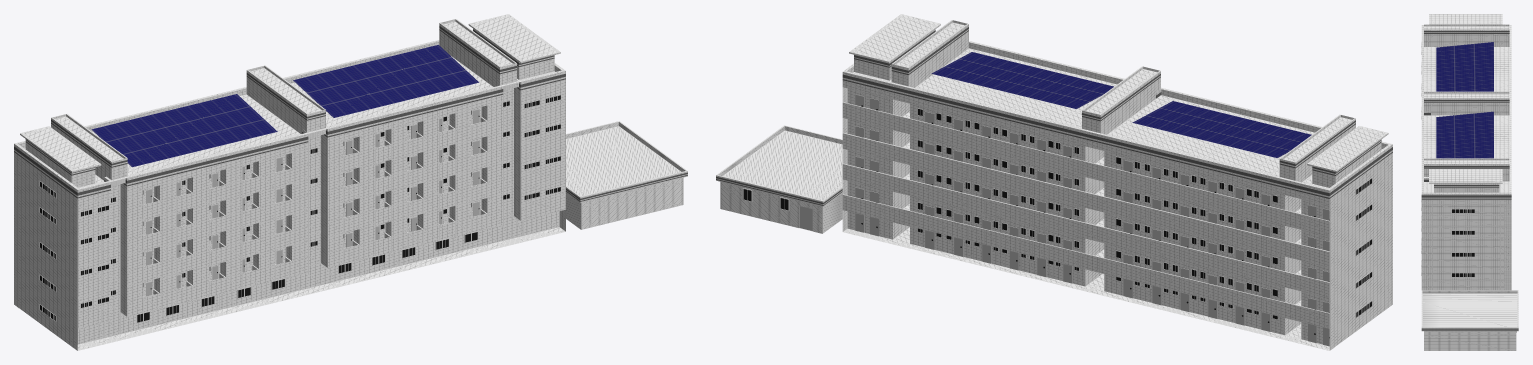
The model's file is SP_Dorm.fbx.
3 renders of one model, left to right at view 1: azimuth 30°, elevation 25°; view 2: azimuth 150°, elevation 25°; view 3: azimuth 270°, elevation 25°, orthographic. The views are drawn at different scales.
Visible parts, largest first — view 1: SP宿舍樓, 立方体.423, 平面.019, 平面.018; view 2: SP宿舍樓, 立方体.423, 平面.019, 平面.018; view 3: SP宿舍樓, 立方体.423, 平面.018, 平面.019.
Part boxes in pixels (left/top/right/bottom): SP宿舍樓: left=14, top=14, right=565, bottom=350; 立方体.423: left=566, top=121, right=687, bottom=229; 平面.019: left=293, top=45, right=478, bottom=117; 平面.018: left=91, top=94, right=277, bottom=167; SP宿舍樓: left=842, top=14, right=1392, bottom=350; 立方体.423: left=716, top=125, right=842, bottom=233; 平面.019: left=931, top=52, right=1113, bottom=108; 平面.018: left=1132, top=101, right=1311, bottom=157; SP宿舍樓: left=1421, top=14, right=1511, bottom=290; 立方体.423: left=1421, top=290, right=1518, bottom=350; 平面.018: left=1436, top=42, right=1493, bottom=91; 平面.019: left=1436, top=111, right=1493, bottom=158.
Size of the model in its own units: 6895 by 1970 by 1346.
7 materials, 2 textured.
